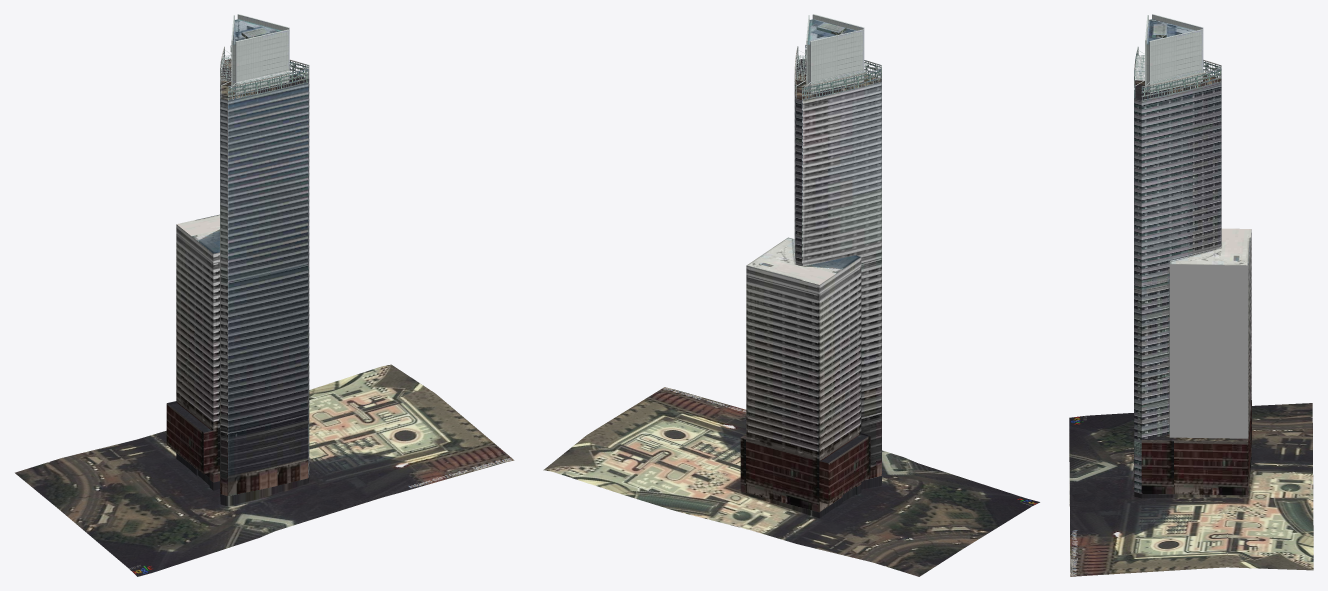
File: menara-carigali.fbx
3 views of the same model, side by side, from view 1: azimuth 30°, elevation 25°; view 2: azimuth 150°, elevation 25°; view 3: azimuth 270°, elevation 25° (orthographic).
Parts seen in each view (by area): view 1: Model, Google_Earth_Terrain; view 2: Model, Google_Earth_Terrain; view 3: Model, Google_Earth_Terrain.
Boxes of the visible parts, x1=… form: Model: x1=166, y1=14, x2=309, y2=506; Google_Earth_Terrain: x1=15, y1=364, x2=514, y2=576; Model: x1=740, y1=14, x2=881, y2=518; Google_Earth_Terrain: x1=543, y1=387, x2=1039, y2=576; Model: x1=1134, y1=14, x2=1251, y2=498; Google_Earth_Terrain: x1=1069, y1=403, x2=1313, y2=576.
Bounding box in the file's own units: 235 × 281 × 133.
